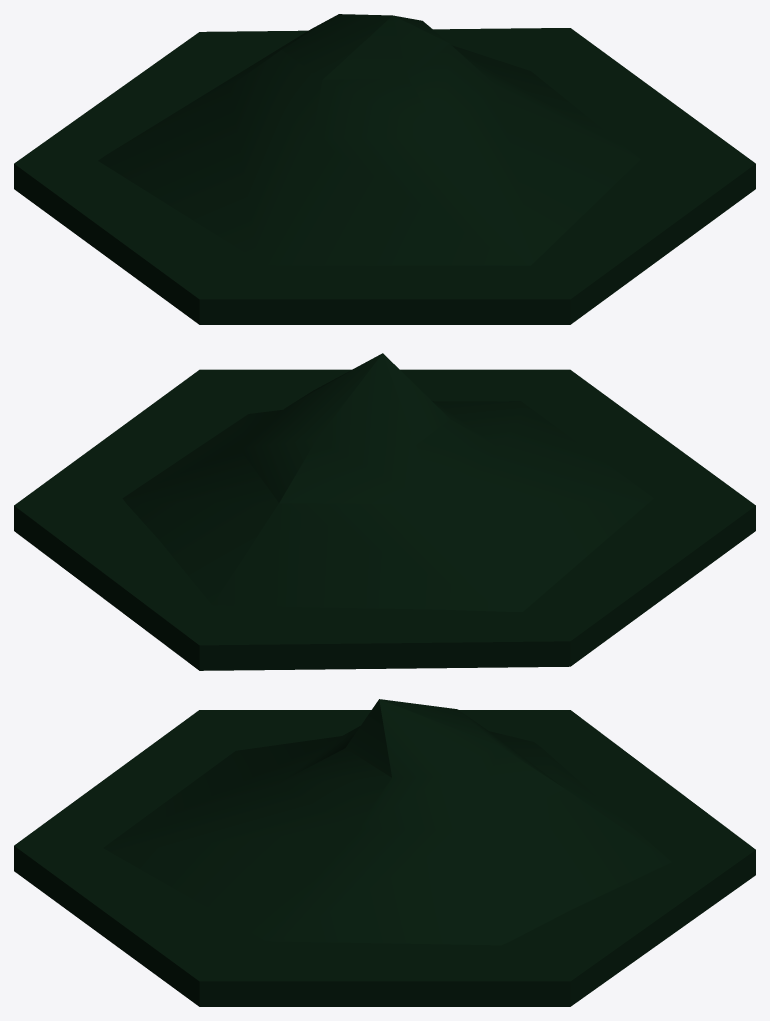
Rendered from TileMountain.fbx.
3 renders of one model, top to bottom at view 1: azimuth 30°, elevation 25°; view 2: azimuth 150°, elevation 25°; view 3: azimuth 270°, elevation 25°, orthographic.
Parts seen in each view (by area): view 1: TilePlain; view 2: TilePlain; view 3: TilePlain.
Part boxes in pixels (left/top/right/bottom): TilePlain: left=14, top=14, right=755, bottom=324; TilePlain: left=14, top=353, right=755, bottom=670; TilePlain: left=14, top=699, right=755, bottom=1006.
Bounding box in the file's own units: 520 × 159 × 600.
